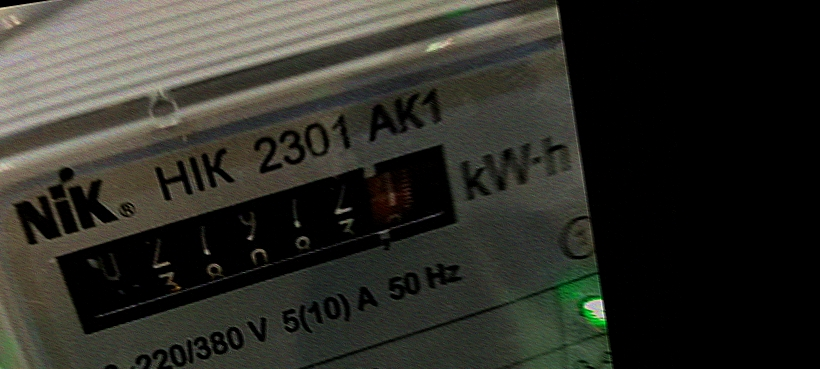0: (92, 243, 125, 283)
1: (376, 164, 404, 210)
2: (139, 227, 173, 270), (323, 175, 356, 216)
7: (277, 187, 309, 232), (188, 217, 216, 257)
9: (233, 203, 264, 241)
screen: (29, 128, 499, 348)
